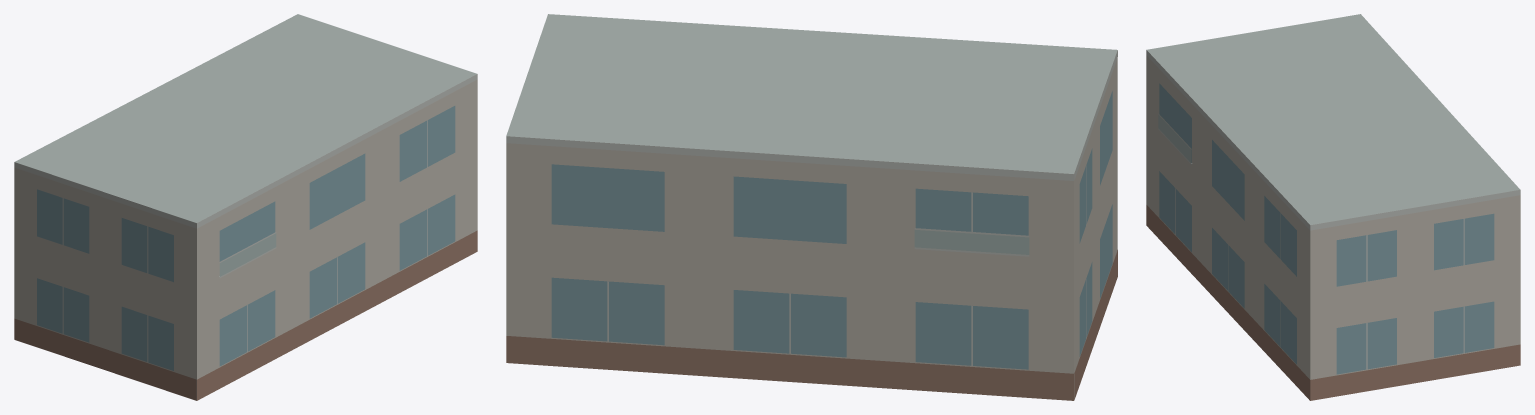
Rendered from survey-upis-32740473.glb.
The picture shows the model from 3 angles, left to right: view 1: azimuth 30°, elevation 25°; view 2: azimuth 150°, elevation 25°; view 3: azimuth 270°, elevation 25°; orthographic projection. The views are drawn at different scales.
Parts seen in each view (by area): view 1: survey-upis-32740473.tmp; view 2: survey-upis-32740473.tmp; view 3: survey-upis-32740473.tmp.
Part boxes in pixels (box(x1,y1,x2,y2)): survey-upis-32740473.tmp: box(14, 14, 477, 400); survey-upis-32740473.tmp: box(506, 14, 1117, 400); survey-upis-32740473.tmp: box(1146, 14, 1520, 400).
Size of the model in its own units: 20.51 by 7.95 by 15.35.
